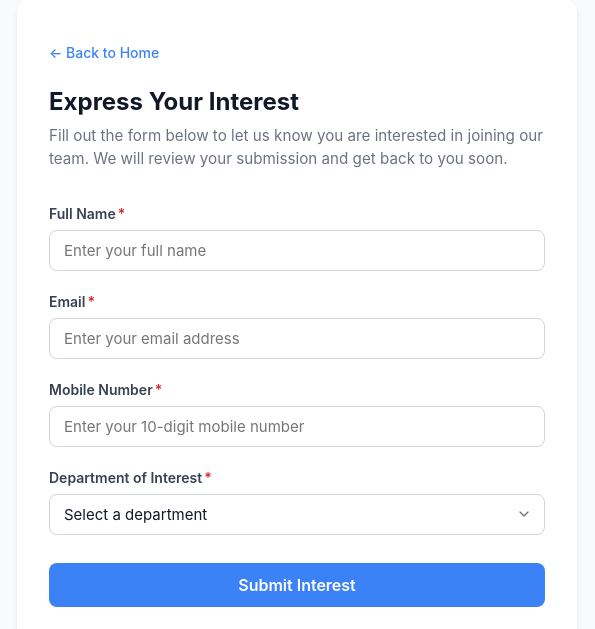
Test: InterestForm › field validation error display › clears field error when user starts typing in that field
The width and height of the screenshot is (595, 629).
Click the button "Submit Interest" at [297, 585], box [49, 563, 545, 607]
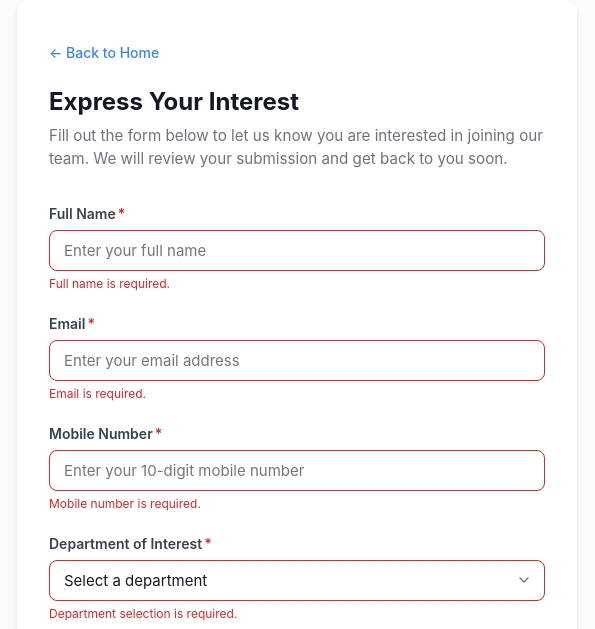
Now the text "Full name is required." is shown, box [49, 276, 170, 291]
Type "J" into the field labelled "Full Name*" at [297, 250], box [49, 230, 545, 271]
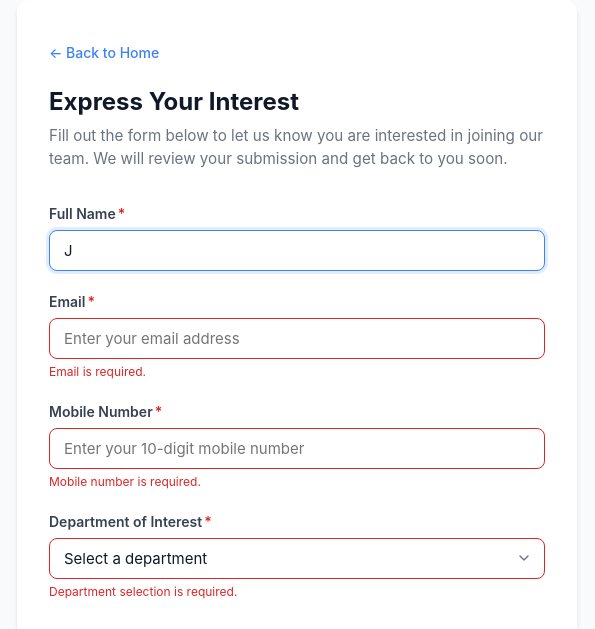
Now the text "Full name is required." is gone
